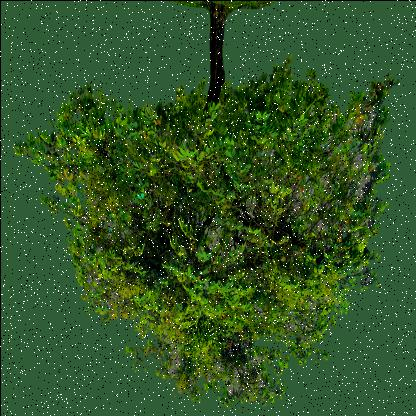Tree: (13, 0, 398, 408)
